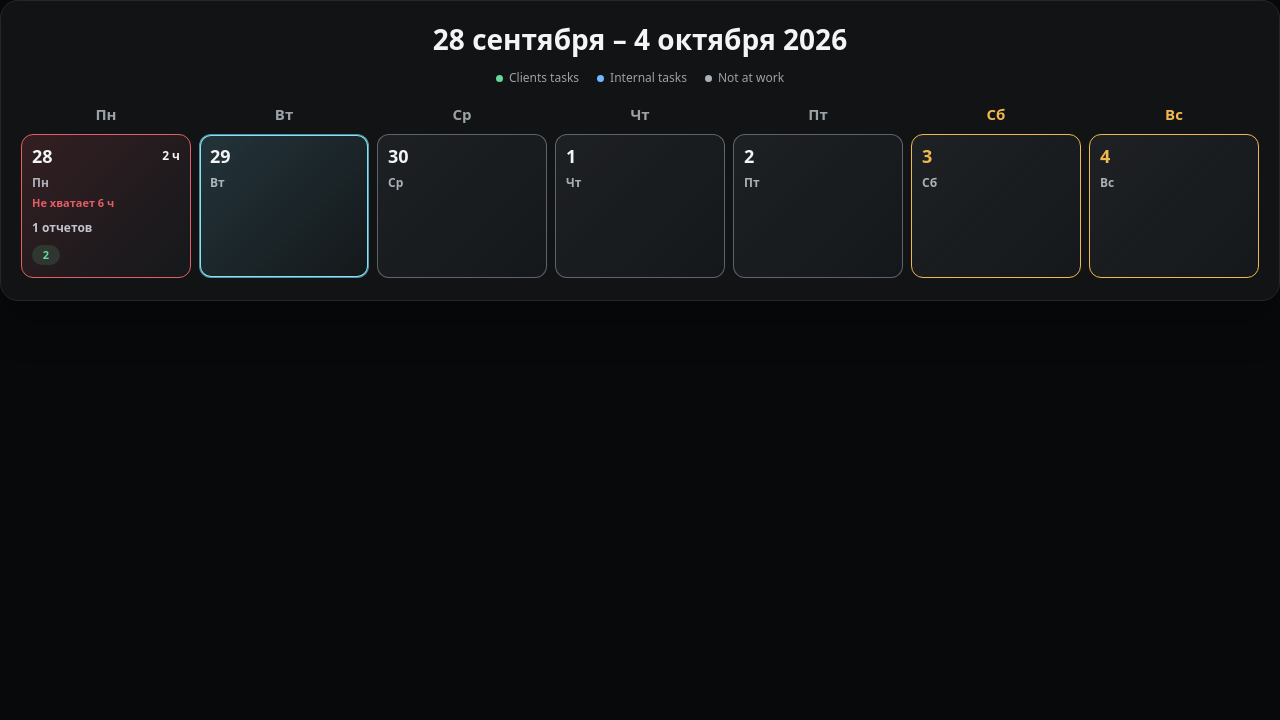
Test: calendar work reuse › shares the weekly report load and enriched tasks while retaining the full period roster
Expected: the text "2 ч" is shown, [162,147,180,164]
Step 1. Click the button named "Все отчёты за 28: 1" → (106, 157), box [32,147,180,166]
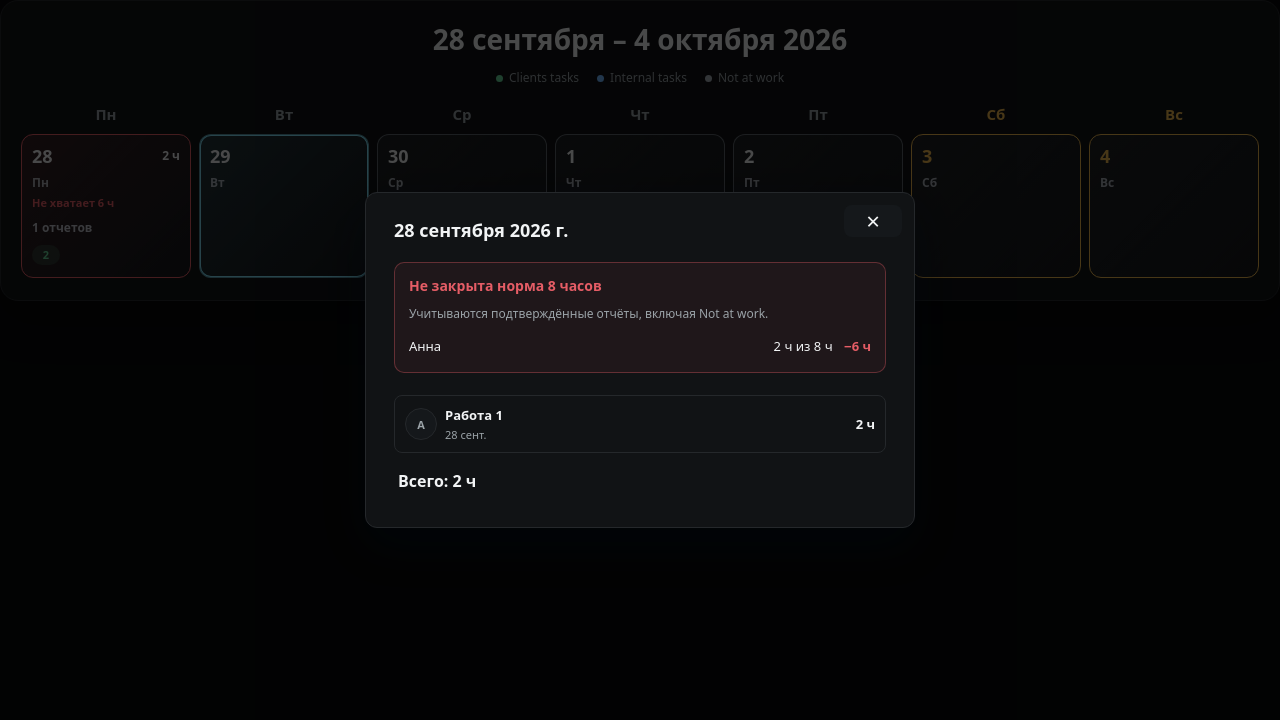
Now the text "Работа 1" is shown, box [445,406,503,424]
